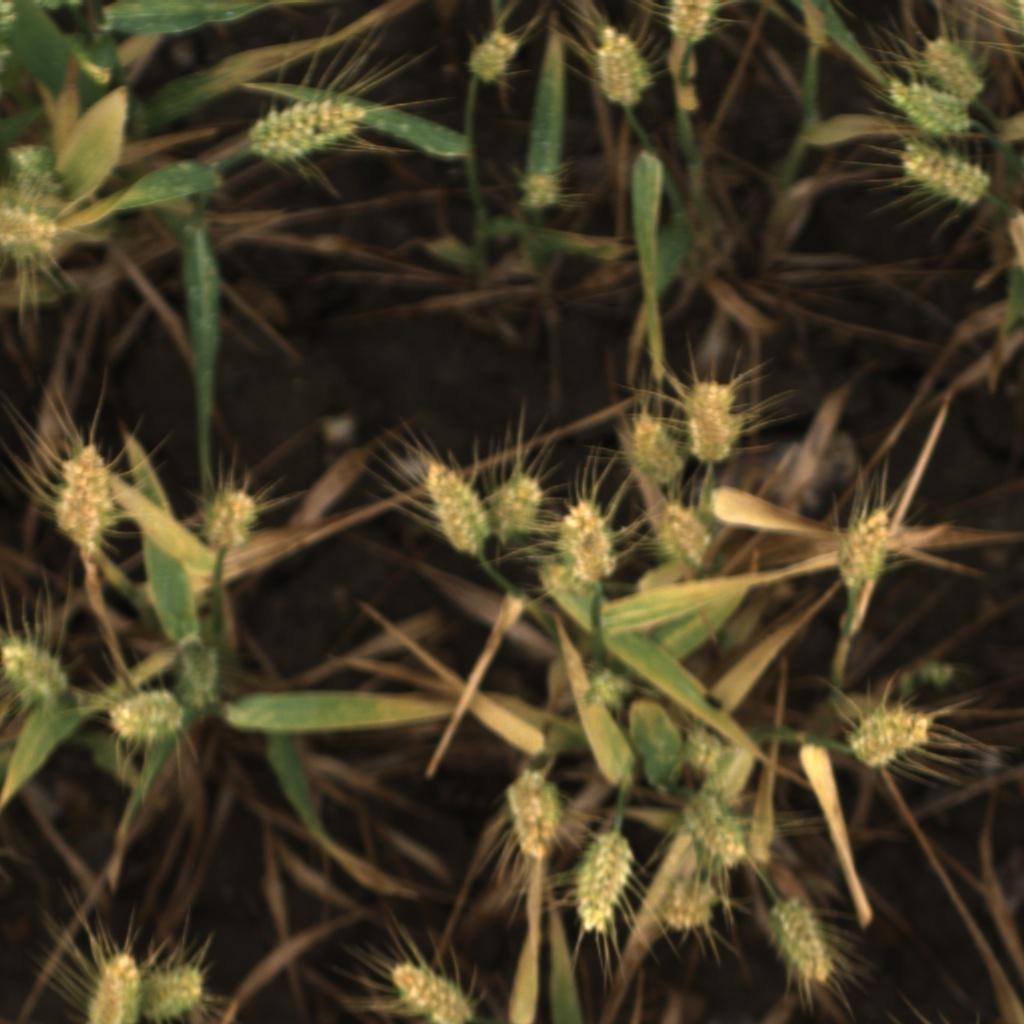0-0: (245, 87, 368, 170), (415, 452, 493, 564), (51, 444, 119, 553), (823, 509, 909, 592), (768, 889, 838, 989), (573, 829, 635, 939), (161, 629, 233, 722), (382, 955, 479, 1024), (896, 143, 991, 212), (841, 705, 936, 772), (680, 376, 753, 463), (587, 29, 662, 112), (500, 769, 564, 863), (682, 793, 758, 870), (0, 631, 75, 709), (560, 494, 624, 582), (874, 83, 970, 140), (914, 31, 986, 102), (98, 686, 185, 744), (0, 135, 78, 199), (79, 949, 145, 1024), (487, 465, 548, 546), (624, 409, 688, 486), (197, 482, 261, 555), (141, 961, 214, 1024), (654, 875, 718, 942), (651, 499, 712, 567), (0, 204, 66, 263), (465, 29, 521, 86), (676, 722, 732, 778), (511, 166, 567, 218), (580, 662, 629, 716), (665, 0, 718, 43), (918, 657, 956, 692)
